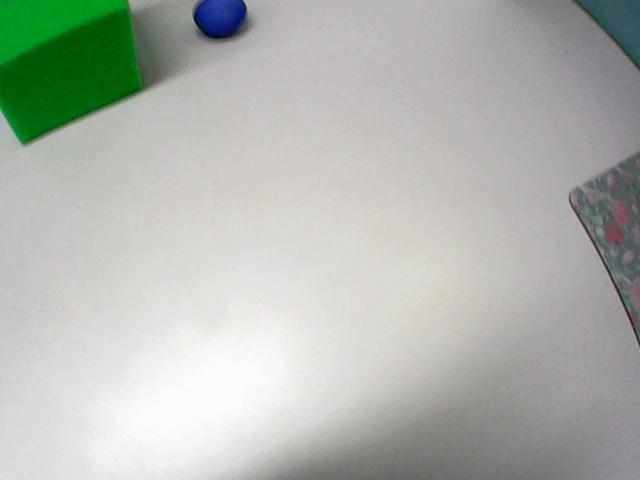blue_block: (576, 0, 639, 65)
